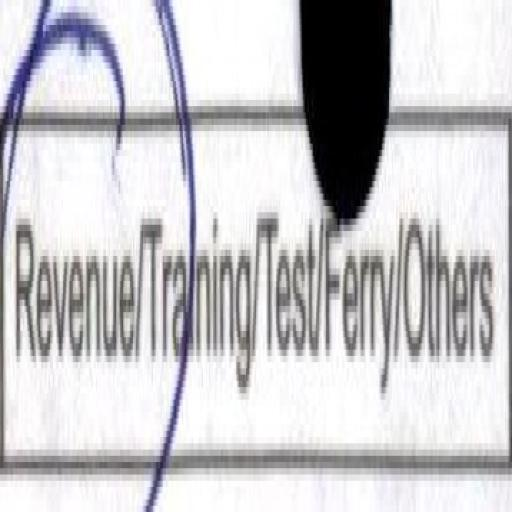check: (0, 0, 141, 512)
